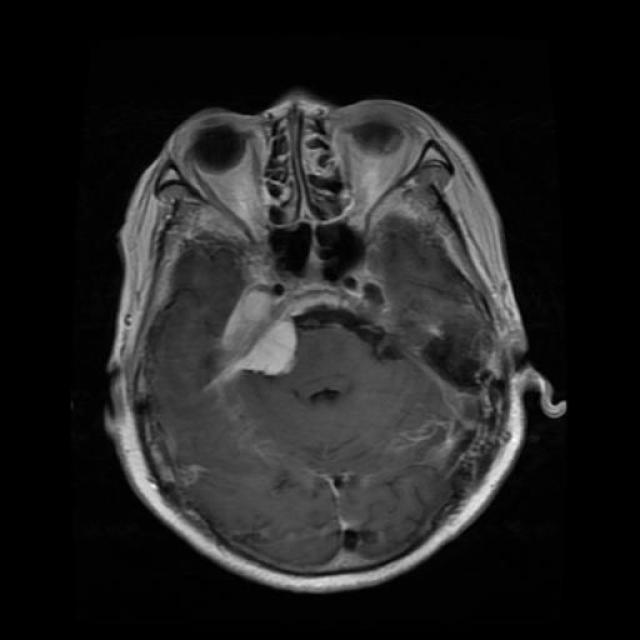meningioma: (221, 292, 294, 375)
